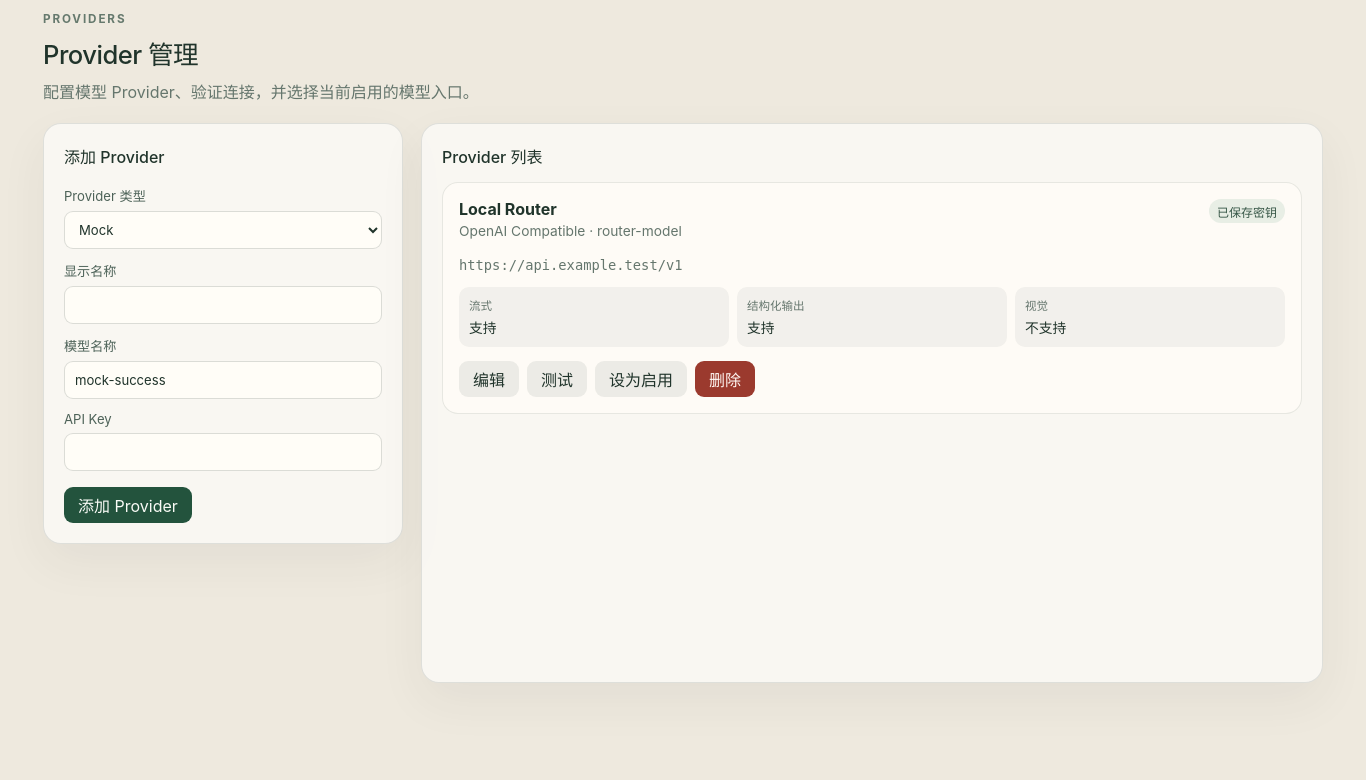
ProviderManager › tests a connection with a generated operation id and supports cancellation
Check: the heading "Local Router" is shown, box [459,199,557,219]
Click the button with aria-label "测试 Local Router": coordinates (557, 379) [527,361,587,397]
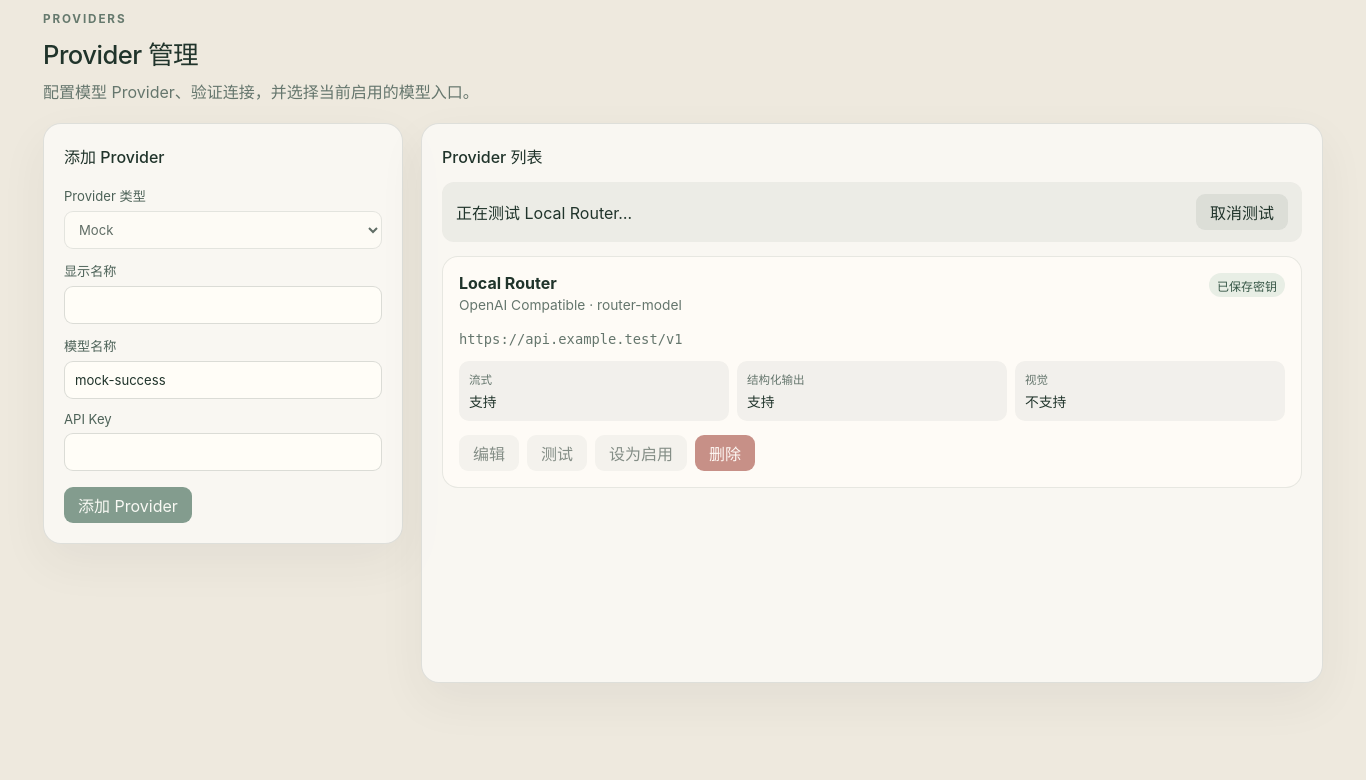
Check: the text "正在测试 Local Router…" is shown, box [456,203,632,223]
Check: the button "取消测试" is shown
Check: the button "添加 Provider" is disabled, box [64,487,192,523]
Click the button "取消测试": coordinates (1242, 212) [1196,194,1288,230]
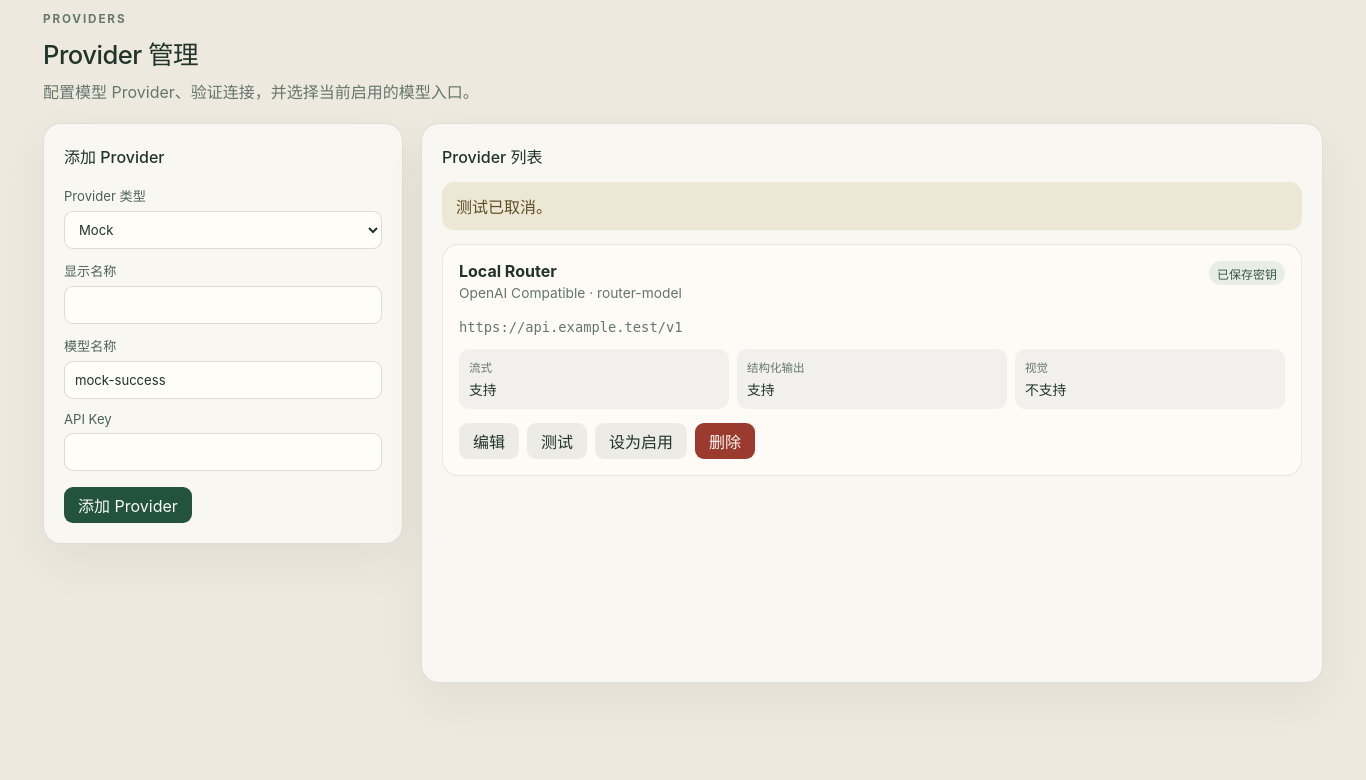
Check: the text "测试已取消。" is shown, box [442,182,1302,230]
